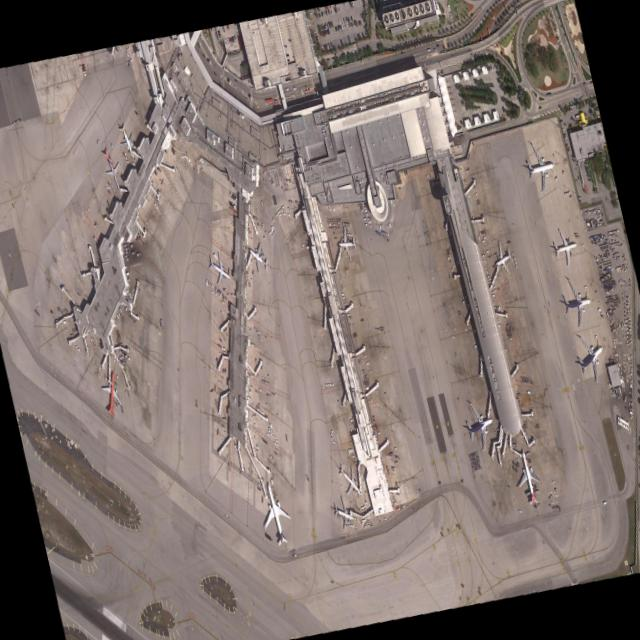large-vehicle: (265, 99, 273, 103), (394, 454, 399, 460), (388, 452, 394, 457), (546, 93, 552, 97), (391, 466, 396, 470), (498, 305, 500, 312)
plane: (254, 477, 296, 549), (573, 321, 610, 390), (462, 395, 500, 454), (559, 277, 596, 331), (510, 449, 545, 506), (523, 139, 559, 194), (551, 226, 582, 271), (337, 454, 363, 507), (100, 146, 127, 196), (101, 363, 123, 422), (489, 236, 516, 281), (209, 246, 231, 295), (248, 234, 269, 282), (333, 493, 355, 536), (116, 121, 139, 162), (335, 225, 359, 261)
small-vehicle: (440, 68, 445, 75), (570, 123, 574, 131), (490, 65, 494, 72), (134, 109, 138, 116), (118, 309, 122, 316), (116, 313, 120, 320), (624, 394, 627, 403), (160, 319, 163, 328), (252, 215, 257, 220), (381, 222, 384, 230), (606, 310, 609, 318), (207, 163, 211, 169), (249, 382, 253, 388), (361, 32, 365, 38), (478, 234, 481, 241), (379, 224, 382, 231), (464, 326, 467, 333), (154, 169, 157, 176), (555, 175, 558, 182), (588, 99, 591, 106), (222, 25, 225, 32), (234, 34, 237, 41), (197, 41, 200, 48), (260, 200, 263, 207), (345, 16, 348, 23), (343, 18, 346, 25), (326, 22, 329, 29), (321, 23, 324, 30), (322, 30, 325, 37), (328, 42, 331, 49), (606, 290, 610, 295), (513, 442, 517, 447), (487, 255, 491, 260), (496, 426, 500, 431), (518, 508, 522, 513), (225, 514, 229, 519), (96, 139, 100, 144), (361, 368, 365, 373), (366, 361, 370, 366), (234, 78, 238, 83), (516, 461, 519, 467), (497, 286, 500, 292), (380, 224, 383, 230), (386, 222, 389, 228), (427, 173, 430, 179), (118, 312, 121, 318), (51, 345, 54, 351), (605, 196, 608, 202), (326, 8, 329, 14), (348, 22, 351, 28), (358, 20, 361, 26), (235, 196, 238, 202), (233, 194, 236, 200), (231, 193, 234, 199), (233, 35, 236, 41), (229, 36, 232, 42), (224, 38, 227, 44), (202, 52, 205, 58), (213, 70, 216, 76), (359, 19, 362, 25), (330, 41, 333, 47), (340, 38, 343, 44), (348, 35, 351, 41), (358, 33, 361, 39), (308, 67, 311, 73), (332, 206, 335, 212), (331, 206, 334, 212), (338, 19, 341, 25), (339, 25, 342, 31), (337, 25, 340, 31), (330, 21, 333, 27), (328, 21, 331, 27), (322, 24, 325, 30), (327, 28, 330, 34), (326, 29, 329, 35), (325, 29, 328, 35), (603, 501, 607, 505), (427, 48, 431, 52), (517, 392, 521, 396), (527, 390, 531, 394), (433, 48, 437, 52), (578, 196, 582, 200), (566, 148, 570, 152), (559, 119, 563, 123), (206, 278, 208, 286), (351, 454, 355, 458), (218, 36, 222, 40), (245, 97, 249, 101), (283, 44, 287, 48), (286, 53, 290, 57), (285, 87, 289, 91), (608, 288, 613, 291), (459, 135, 462, 140), (158, 167, 161, 172), (508, 6, 511, 11), (395, 483, 398, 488), (349, 22, 352, 27), (353, 22, 356, 27), (248, 390, 251, 395), (228, 38, 231, 43), (227, 38, 230, 43), (259, 387, 262, 392), (462, 299, 465, 304), (361, 13, 364, 18), (350, 16, 353, 21), (336, 26, 339, 31), (479, 229, 481, 236), (493, 64, 495, 71), (585, 100, 587, 107), (392, 201, 394, 208), (449, 272, 451, 279), (570, 105, 572, 112), (252, 269, 254, 276), (326, 43, 328, 50), (552, 480, 555, 484), (498, 323, 501, 327), (493, 284, 496, 288), (488, 281, 492, 284), (483, 236, 486, 240), (485, 250, 489, 253), (638, 482, 640, 488), (367, 218, 371, 221), (387, 222, 390, 226), (389, 222, 391, 228), (401, 52, 405, 55), (426, 175, 428, 181), (429, 173, 431, 179), (474, 344, 477, 348), (507, 437, 509, 443), (363, 217, 367, 220), (251, 374, 254, 378), (331, 580, 334, 584), (268, 374, 270, 380), (248, 385, 251, 389), (449, 11, 452, 15), (276, 412, 279, 416), (449, 15, 453, 18), (470, 12, 473, 16), (565, 143, 569, 146), (571, 106, 573, 112), (566, 106, 568, 112), (222, 288, 226, 291), (365, 213, 369, 216), (274, 100, 278, 103), (354, 461, 357, 465), (377, 432, 381, 435), (362, 372, 365, 376), (325, 9, 327, 15), (355, 21, 357, 27), (256, 106, 260, 109), (218, 32, 221, 36), (231, 36, 233, 42), (360, 209, 364, 212), (309, 11, 312, 15), (357, 33, 359, 39), (333, 52, 337, 55), (293, 87, 297, 90), (340, 50, 343, 54), (328, 206, 330, 212), (323, 44, 325, 50), (324, 43, 326, 49), (348, 16, 350, 22), (341, 24, 343, 30), (339, 25, 341, 31), (335, 26, 337, 32), (325, 22, 327, 28), (324, 24, 326, 30), (327, 43, 329, 49), (517, 456, 519, 461), (613, 390, 615, 395), (506, 482, 508, 487), (567, 106, 569, 111), (383, 463, 385, 468), (331, 9, 333, 14), (328, 9, 330, 14), (324, 10, 326, 15), (323, 11, 325, 16), (322, 11, 324, 16), (319, 11, 321, 16), (318, 12, 320, 17), (351, 22, 353, 27), (350, 3, 352, 8), (232, 36, 234, 41), (352, 2, 354, 7), (322, 45, 324, 50), (360, 13, 362, 18), (324, 30, 326, 35), (617, 396, 620, 399), (509, 337, 512, 340), (595, 290, 598, 293), (487, 275, 490, 278), (482, 254, 485, 257), (436, 44, 439, 47), (369, 224, 372, 227), (488, 278, 491, 281), (447, 4, 450, 7), (294, 554, 297, 557), (584, 285, 587, 288), (563, 133, 566, 136), (562, 127, 565, 130), (583, 82, 586, 85), (365, 220, 368, 223), (306, 240, 309, 243), (369, 370, 372, 373), (348, 316, 351, 319), (252, 32, 255, 35), (217, 30, 220, 33), (248, 388, 251, 391), (315, 35, 318, 38), (314, 30, 317, 33), (288, 38, 291, 41), (292, 55, 295, 58), (287, 58, 290, 61), (351, 50, 354, 53), (494, 288, 496, 292), (481, 240, 485, 242), (321, 12, 323, 16), (262, 222, 263, 230), (229, 190, 231, 194), (295, 65, 299, 67), (338, 7, 340, 11), (583, 101, 584, 108), (368, 221, 371, 223), (564, 137, 567, 139), (577, 104, 578, 110), (344, 303, 347, 305), (315, 33, 317, 36), (326, 58, 329, 60), (322, 220, 325, 222), (329, 223, 331, 226), (639, 528, 640, 533), (569, 106, 570, 111), (332, 56, 334, 58), (316, 38, 318, 40)
